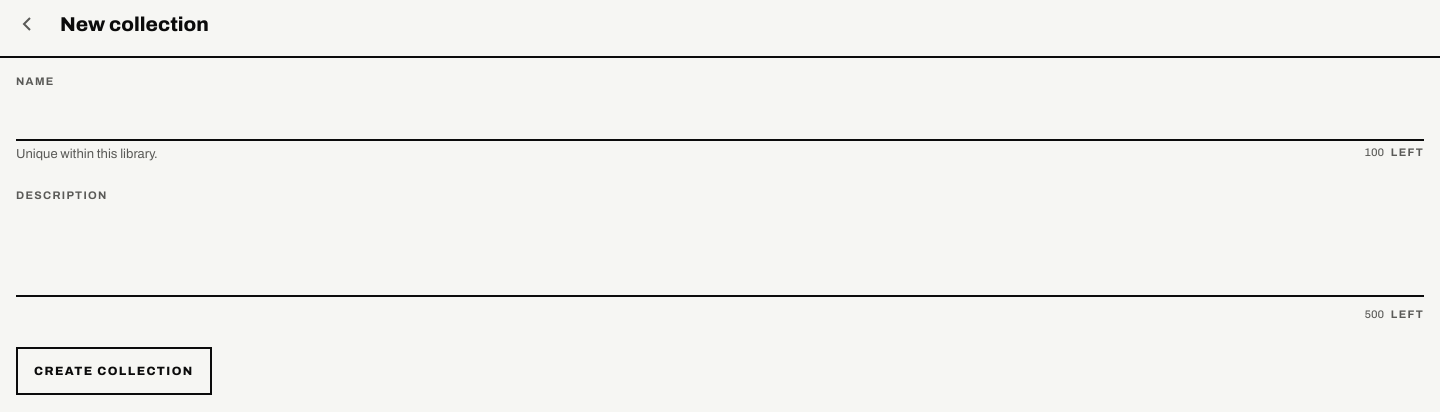
it: NewCollection › shows a duplicate name on the field, not as a page-level error
In the field labelled "Name": [720, 117] box 16,93 -> 1424,141, type "Melville"
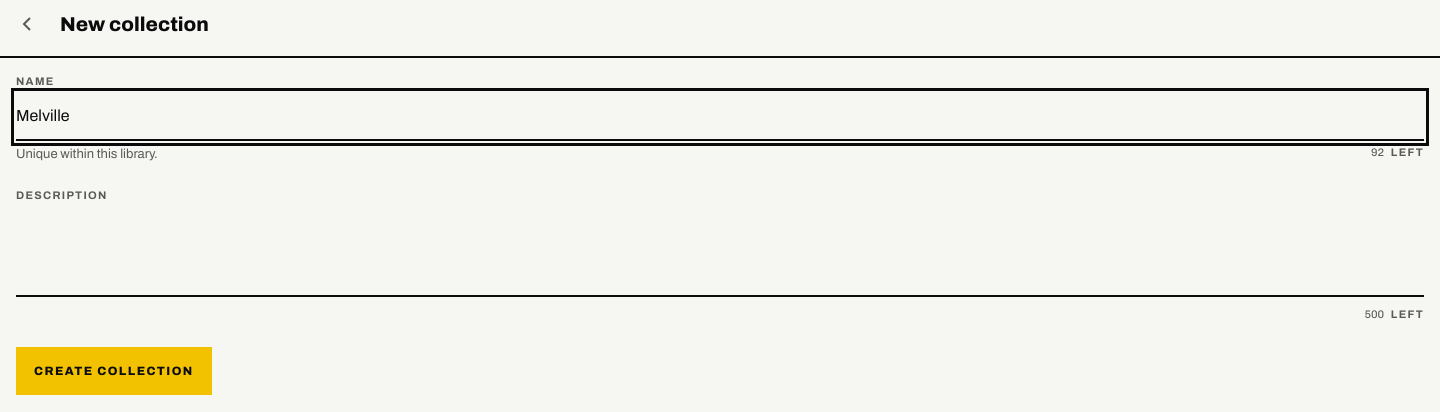
Click the button "Create collection": [114, 371] box 16,347 -> 212,395
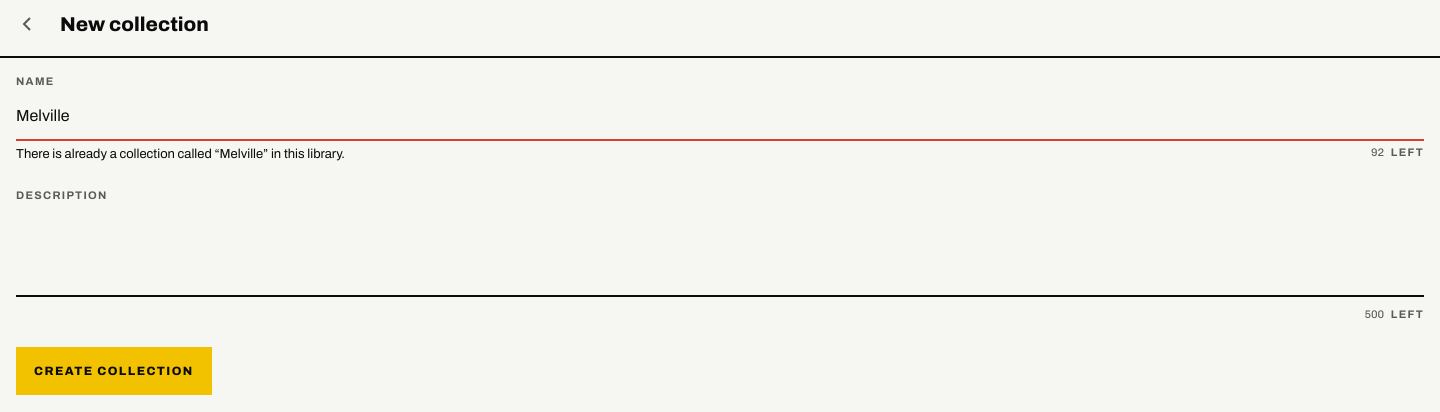
Result: the text "There is already a collection called “Melville” in this library." is shown at 16,145 -> 345,164
